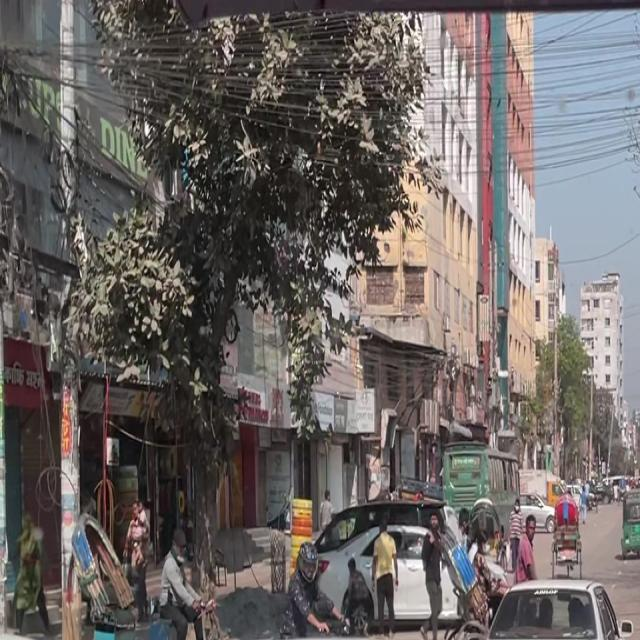car: (436, 561, 640, 640), (88, 612, 480, 640), (0, 630, 88, 640), (540, 633, 640, 640)
rickshaw: (614, 493, 640, 562)
